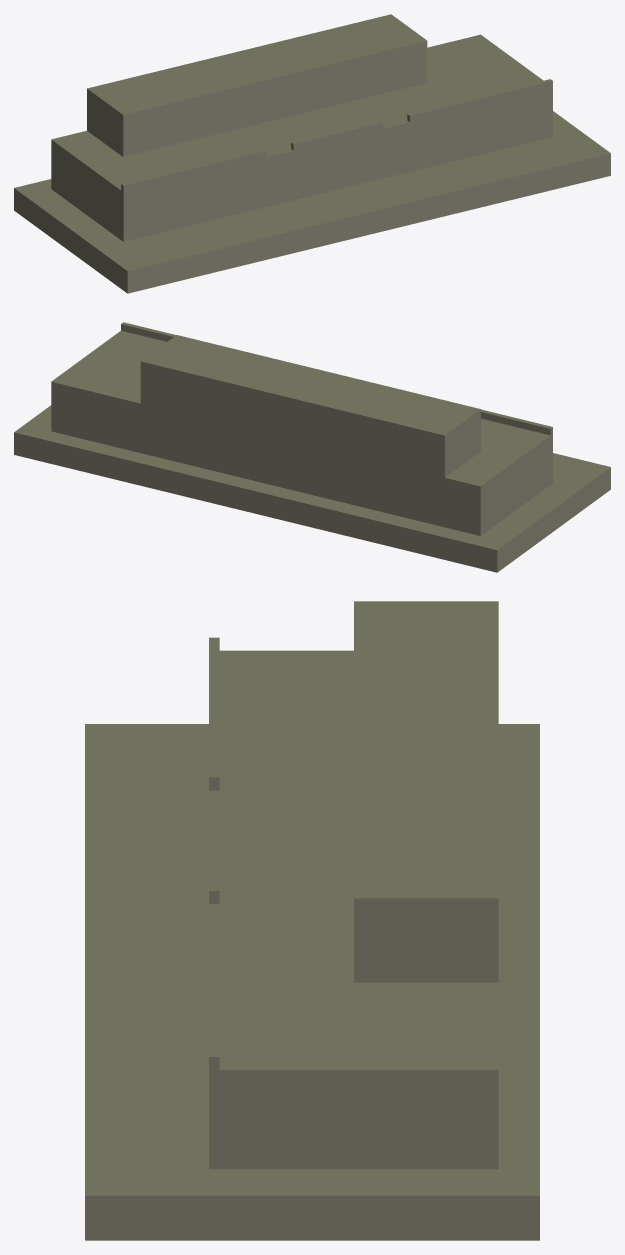
The model's file is ruin-palace.far-facades-v3.lod2.glb.
3 views of the same model, one above another, from view 1: azimuth 30°, elevation 25°; view 2: azimuth 150°, elevation 25°; view 3: azimuth 270°, elevation 25° (orthographic). The views are drawn at different scales.
Parts seen in each view (by area): view 1: ruin-palace; view 2: ruin-palace; view 3: ruin-palace.
Boxes of the visible parts, bbox=[...] form: ruin-palace: bbox=[14, 14, 610, 293]; ruin-palace: bbox=[14, 322, 610, 572]; ruin-palace: bbox=[85, 601, 539, 1240].
Bounding box in the file's own units: 54 × 12.2 × 22.
